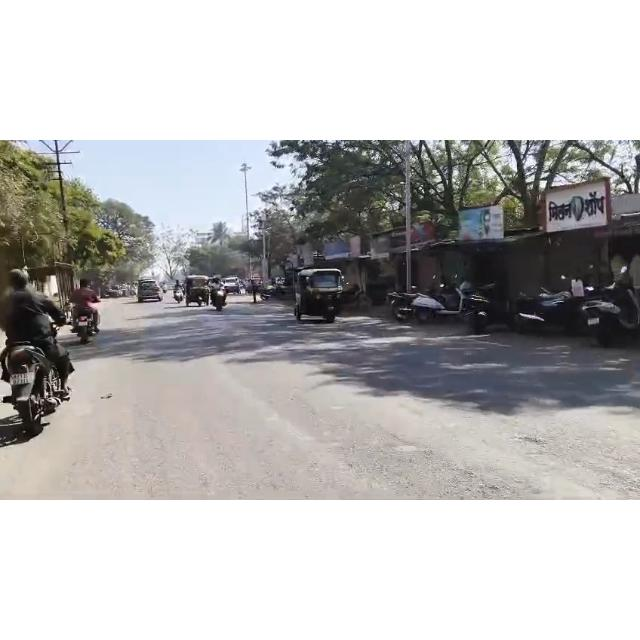auto: (294, 264, 349, 324), (183, 277, 213, 309)
car: (138, 281, 168, 303), (223, 275, 245, 294)
